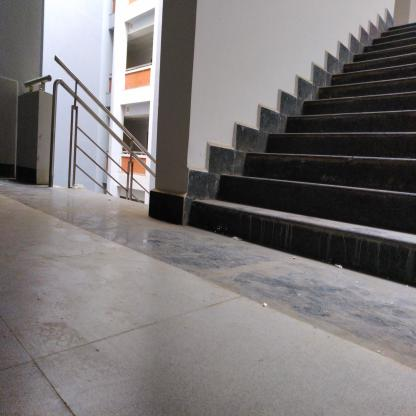stairs: (382, 23, 415, 297)
